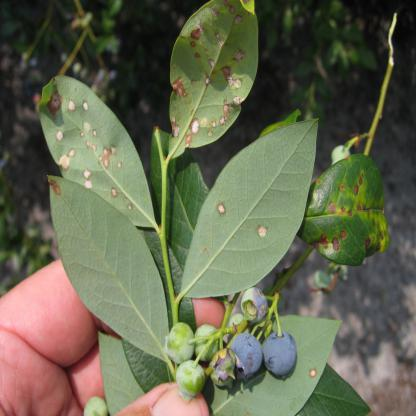blueberry leaf: (176, 118, 329, 303), (42, 175, 180, 366)
